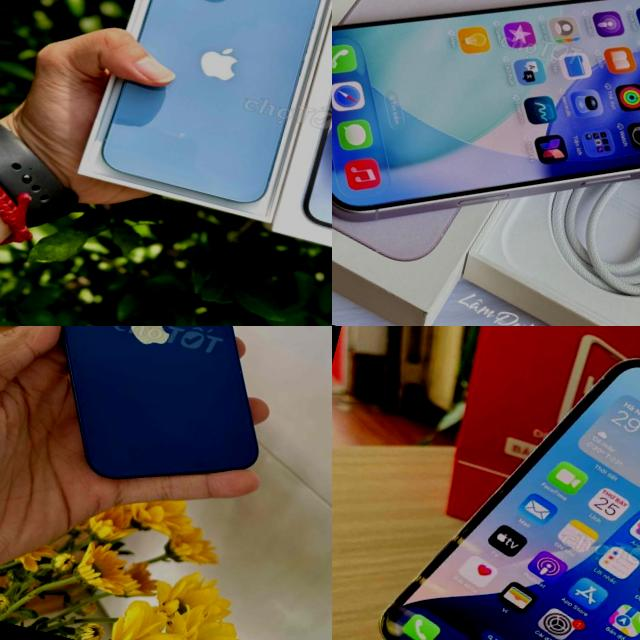gen_12_13: (349, 326, 640, 640), (0, 326, 324, 517)
gen_14: (90, 0, 332, 217)
gen_17: (550, 108, 552, 110)
